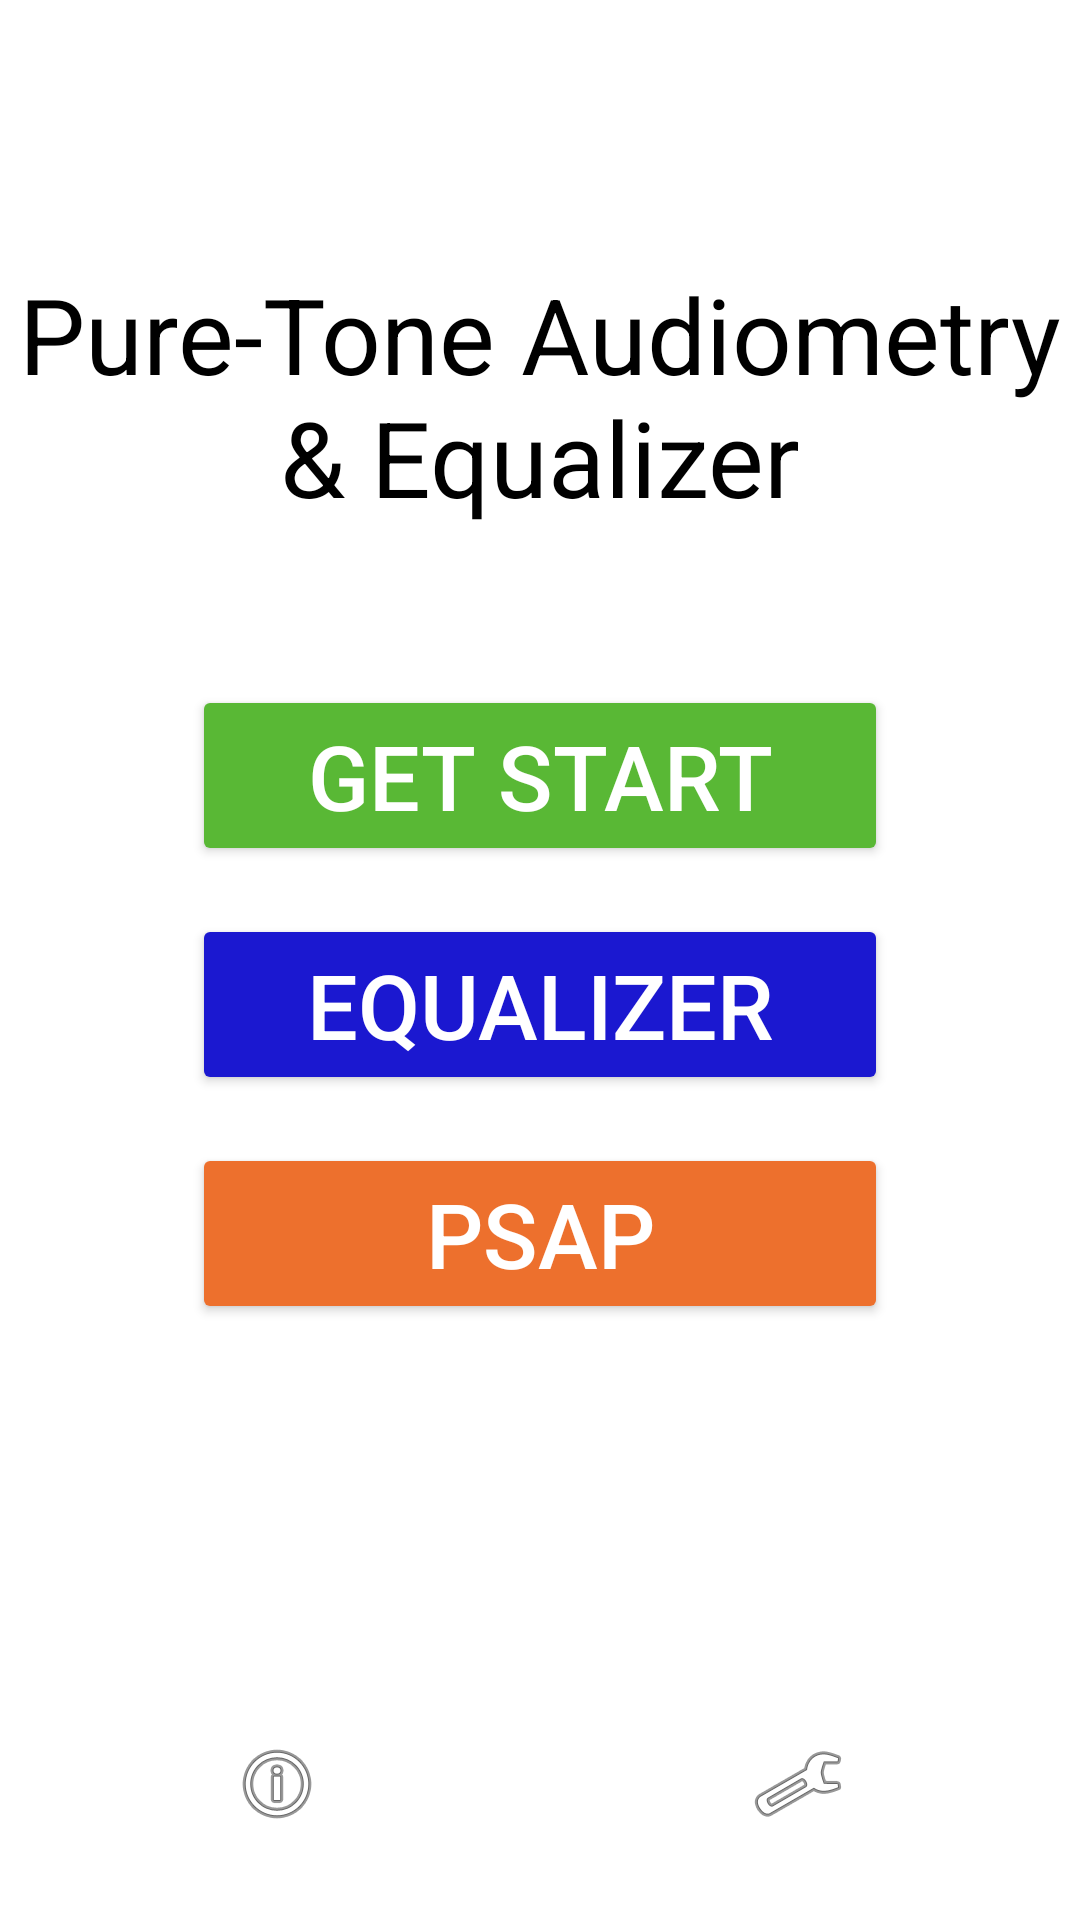

Point at icon controls on the screen. Image size 1080×1920, points as (x=x, y=y).
info details: (x=277, y=1784)
preferences: (x=798, y=1784)
